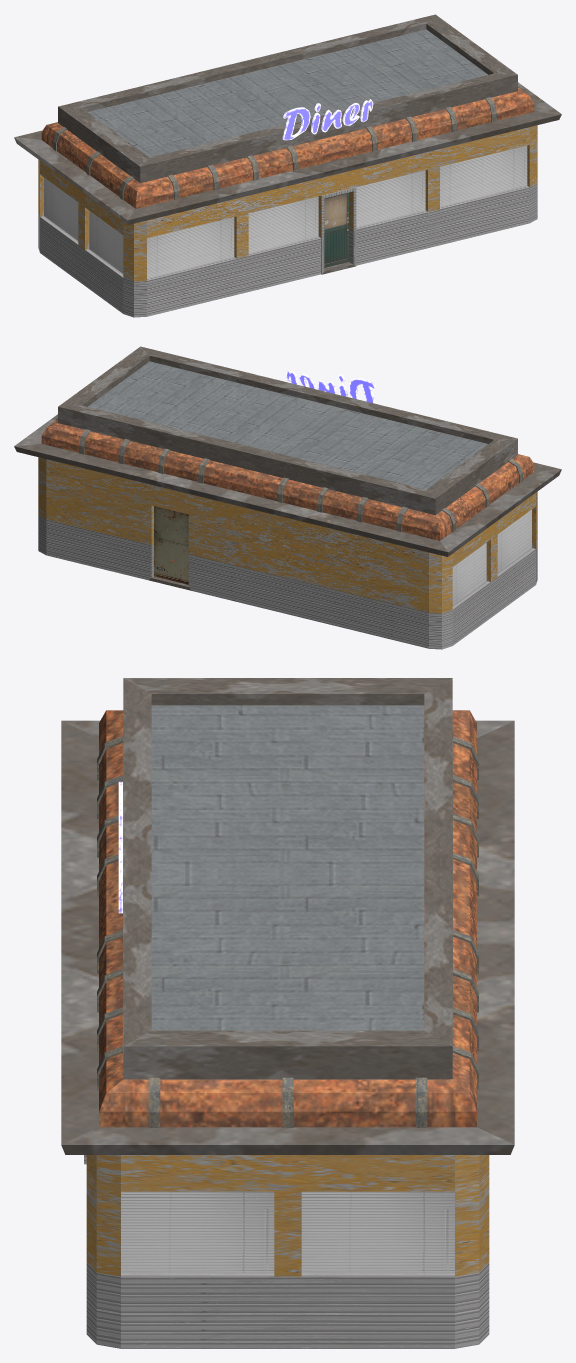
Rendered from dinner_ps1_style.glb.
3 renders of one model, top to bottom at view 1: azimuth 30°, elevation 25°; view 2: azimuth 150°, elevation 25°; view 3: azimuth 270°, elevation 25°, orthographic. The views are drawn at different scales.
Parts seen in each view (by area): view 1: diner-Roof, diner-Building, diner-Window-doors, diner-Sign; view 2: diner-Roof, diner-Building, diner-Window-doors, diner-Sign; view 3: diner-Roof, diner-Building, diner-Window-doors.
Part boxes in pixels (x1,y1,x2,y2): diner-Roof: [14, 14, 561, 224]; diner-Building: [38, 125, 537, 317]; diner-Window-doors: [44, 145, 527, 278]; diner-Sign: [282, 99, 373, 140]; diner-Roof: [14, 346, 561, 556]; diner-Building: [38, 457, 537, 649]; diner-Window-doors: [154, 506, 531, 605]; diner-Sign: [286, 370, 376, 403]; diner-Roof: [61, 678, 514, 1154]; diner-Building: [84, 1155, 489, 1348]; diner-Window-doors: [121, 1191, 454, 1272].
Size of the model in its own units: 12.61 by 4.53 by 5.7.
3 materials, 3 textured.
